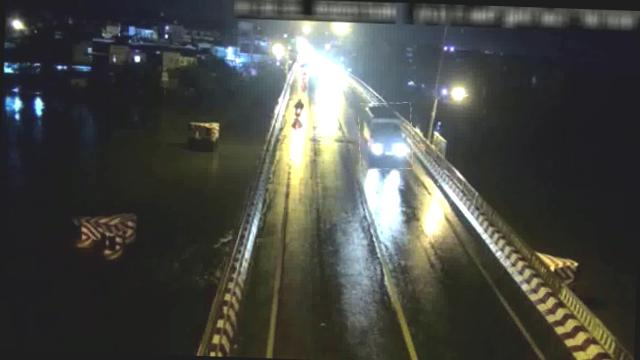Bike: (289, 98, 304, 120)
Truck: (358, 102, 413, 171)
